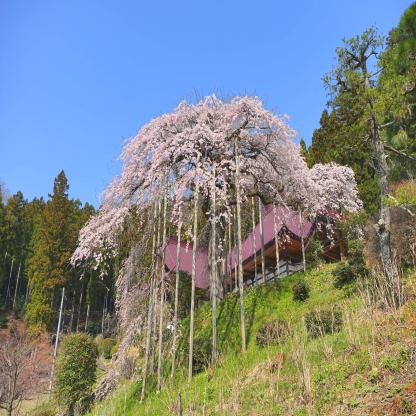ShidareZakura: (69, 83, 362, 407)
